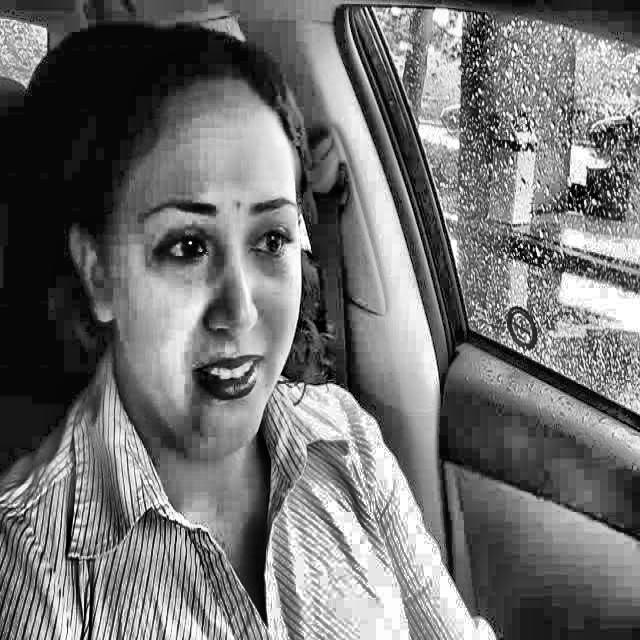closed_mouth: (168, 340, 294, 424)
open_eyes: (145, 221, 217, 279), (240, 219, 305, 272)
